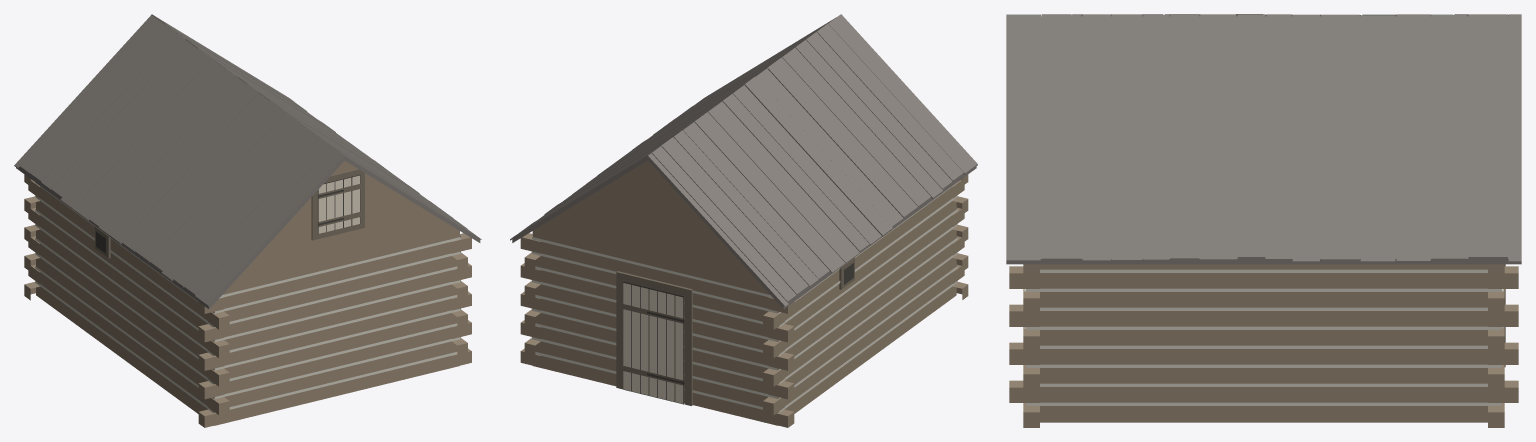
The model's file is recon_1835_south_a1_046__inferred_1835.glb.
3 views of the same model, side by side, from view 1: azimuth 30°, elevation 25°; view 2: azimuth 150°, elevation 25°; view 3: azimuth 270°, elevation 25° (orthographic). The views are drawn at different scales.
Visible parts, largest first — view 1: recon_1835_south_a1_046__inferred_1835; view 2: recon_1835_south_a1_046__inferred_1835; view 3: recon_1835_south_a1_046__inferred_1835.
Boxes of the visible parts, box(x1,y1,x2,y2) form: recon_1835_south_a1_046__inferred_1835: box(14, 14, 481, 427); recon_1835_south_a1_046__inferred_1835: box(510, 14, 977, 427); recon_1835_south_a1_046__inferred_1835: box(1006, 14, 1521, 427).
Bounding box in the file's own units: 6.14 × 5.24 × 7.44.
